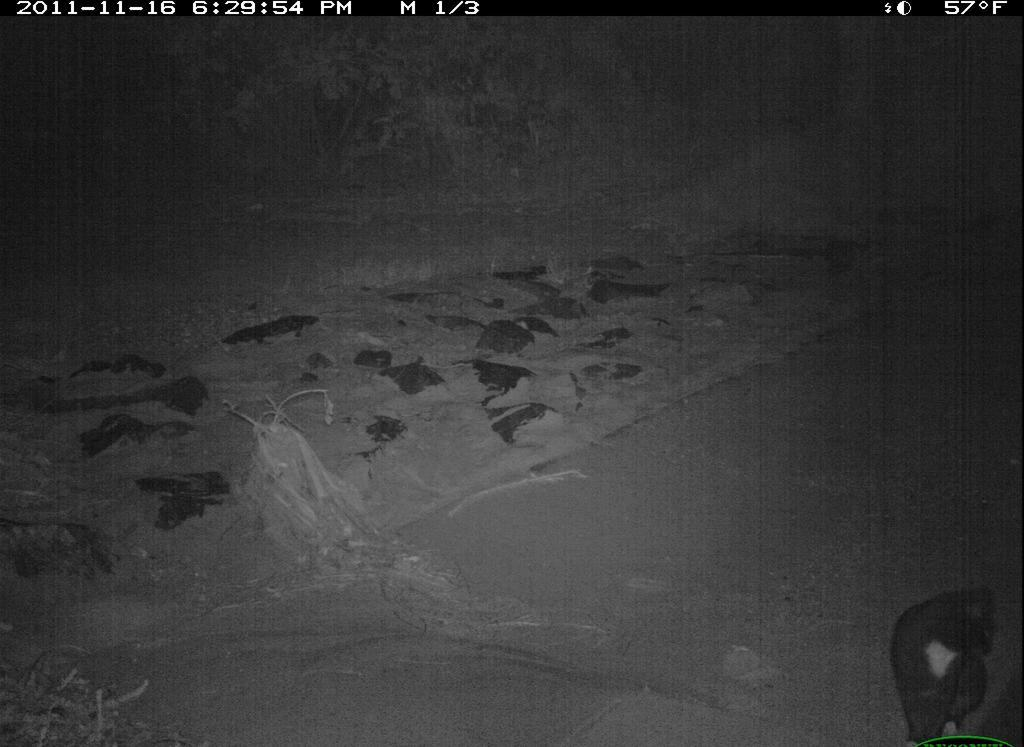cat: (857, 565, 1001, 738)
